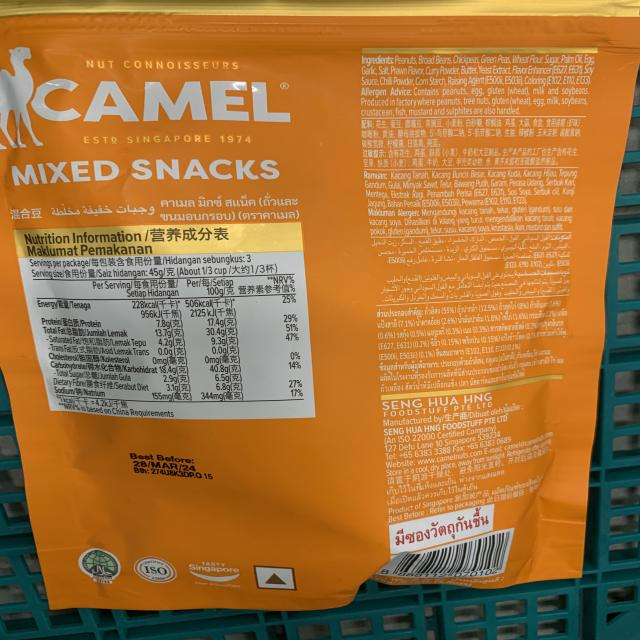object_name: (4, 7, 599, 600)
